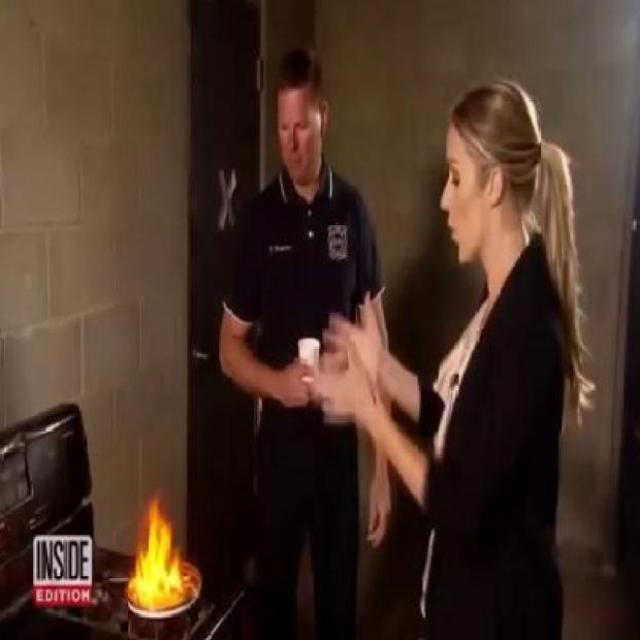smoke: (124, 489, 192, 614)
